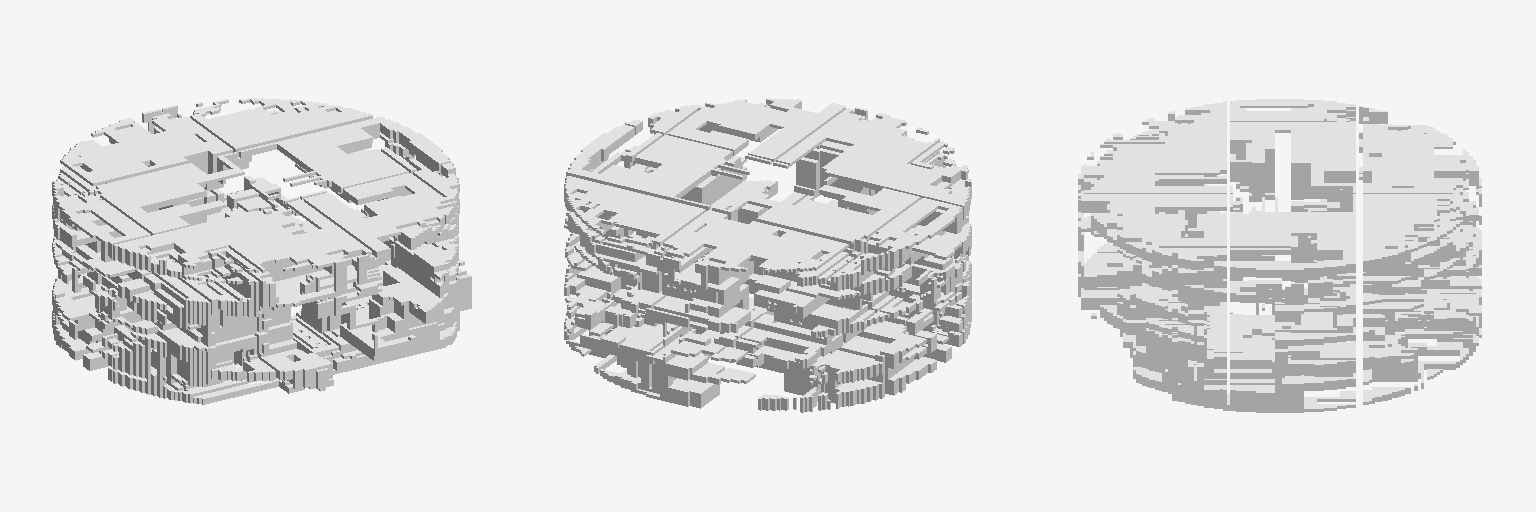
3 renders of one model, left to right at view 1: azimuth 30°, elevation 25°; view 2: azimuth 150°, elevation 25°; view 3: azimuth 270°, elevation 25°, orthographic.
Visible parts, largest first — view 1: 金属; view 2: 金属; view 3: 金属.
Part boxes in pixels (bbox=[...]): 金属: bbox=[52, 98, 471, 404]; 金属: bbox=[564, 98, 971, 412]; 金属: bbox=[1078, 99, 1481, 412].
Size of the model in its own units: 125 by 49 by 125.